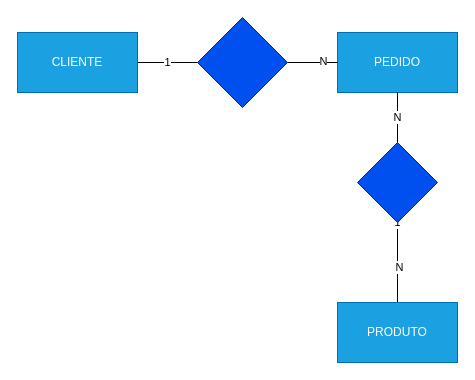
This 475x380 diagram has some shape labels left out. Here are the shapes that lost their labels. From the top down, the centre of each, then its label:
point 242,62: ADQUIRIR
point 397,182: TEM
